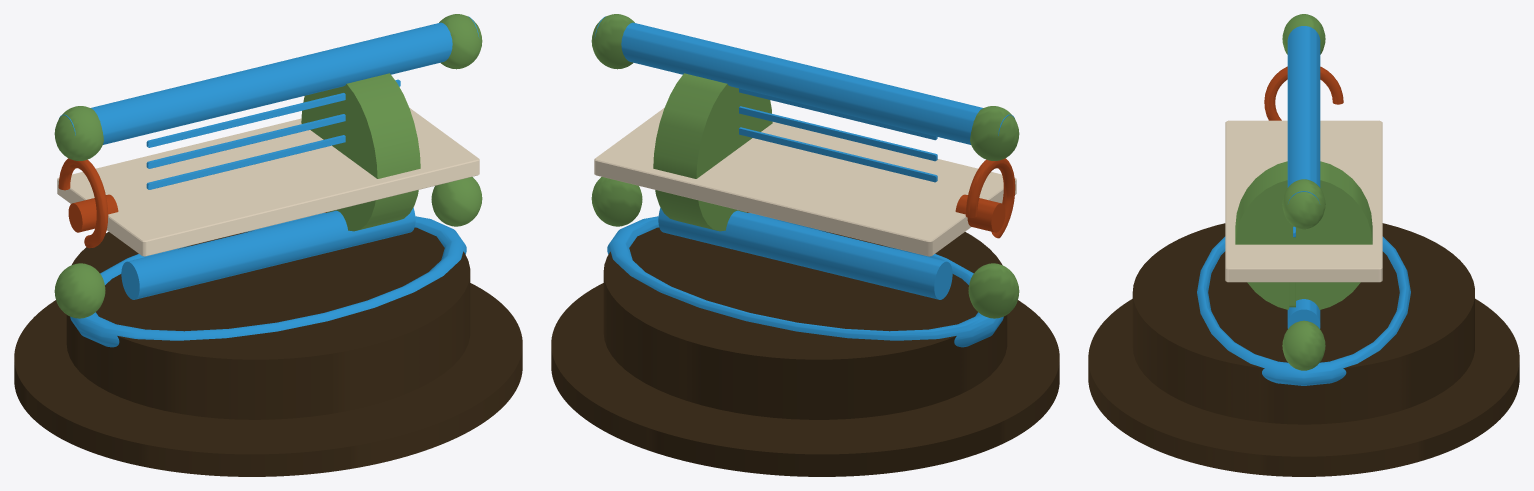
Rendered from 0858_生活中的数学图鉴_伊尚戈骨.glb.
The picture shows the model from 3 angles, left to right: view 1: azimuth 30°, elevation 25°; view 2: azimuth 150°, elevation 25°; view 3: azimuth 270°, elevation 25°; orthographic projection. The views are drawn at different scales.
Visible parts, largest first — view 1: card_0858; view 2: card_0858; view 3: card_0858.
Part boxes in pixels (left/top/right/bottom): card_0858: left=14, top=14, right=522, bottom=476; card_0858: left=551, top=14, right=1059, bottom=476; card_0858: left=1088, top=14, right=1519, bottom=476.
Bounding box in the file's own units: 1.51 × 1 × 1.4.
